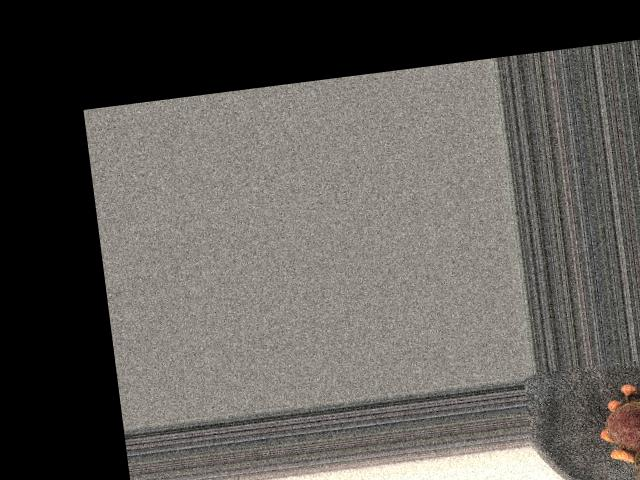beet: (601, 388, 640, 480)
